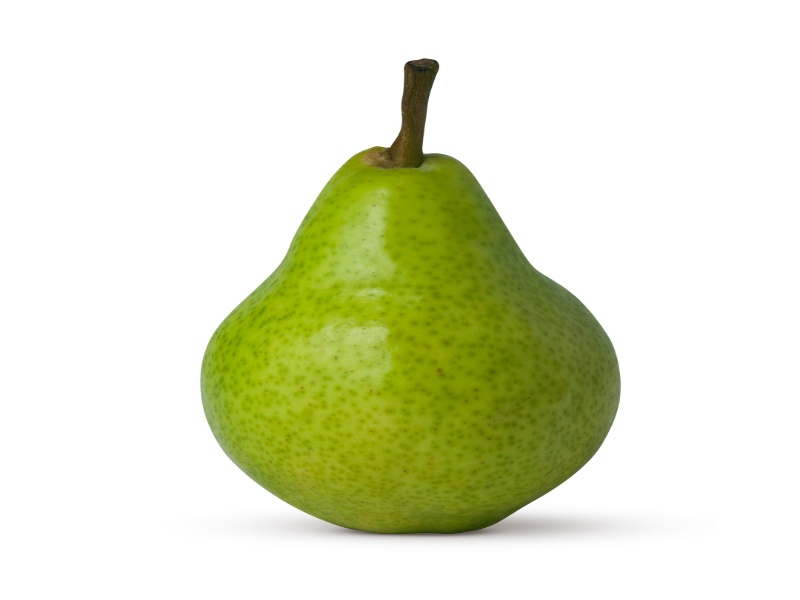Pera: (200, 59, 621, 534)
